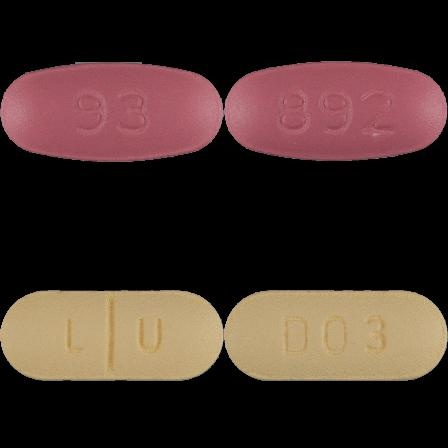35356-826: (0, 0, 224, 224)
